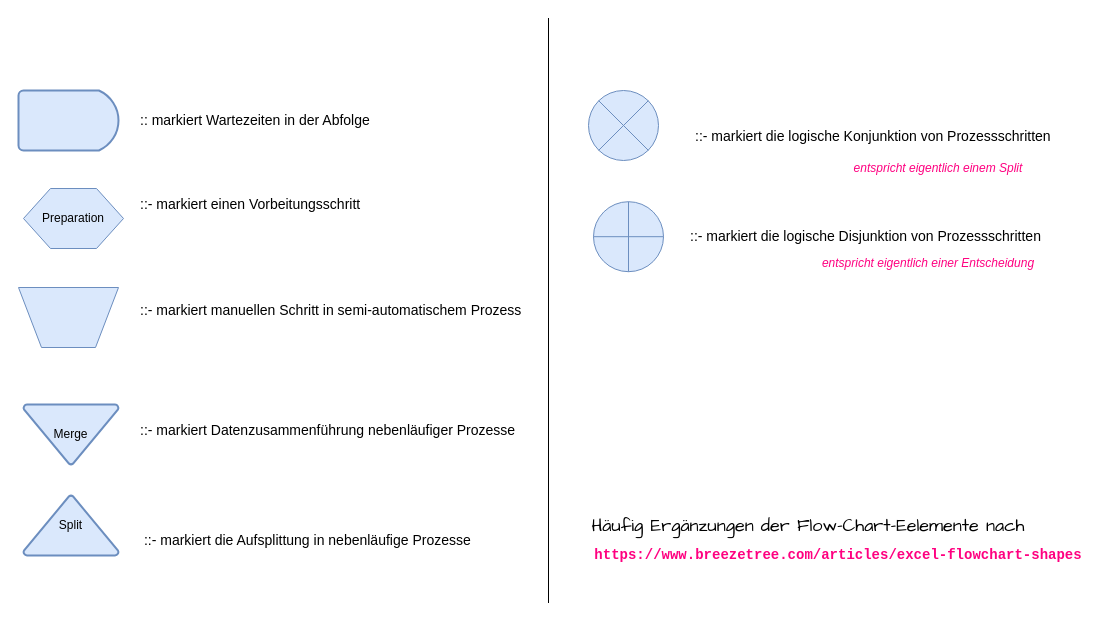
Some shapes in this 1110 by 621 pixel diagram are drawn without their labels. Here are the shapes that lost their labels. From the top down, the centre of each, then its label:
[68,120]: Delay
[68,317]: manual step
